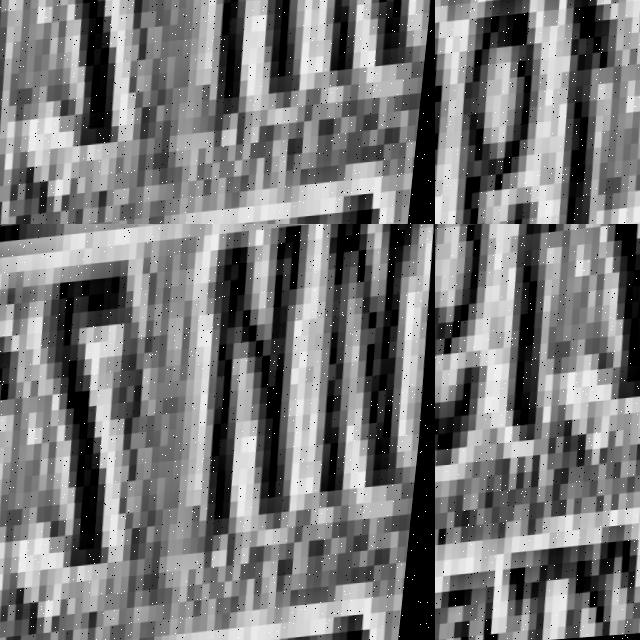license-plate: (0, 224, 435, 640), (0, 0, 435, 224), (435, 224, 640, 640), (435, 0, 640, 224)
